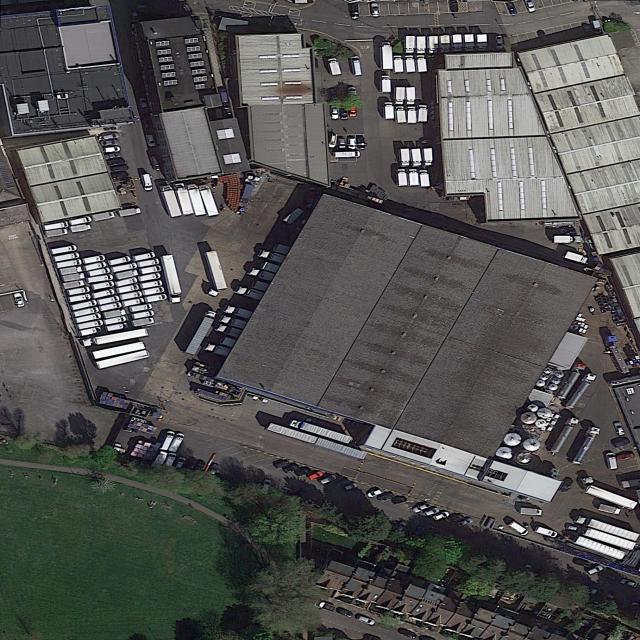large-vehicle: (572, 473, 639, 512), (565, 522, 637, 551), (563, 532, 628, 561), (573, 514, 640, 542), (288, 418, 355, 445), (182, 309, 219, 356), (79, 327, 150, 349), (563, 372, 599, 411), (553, 361, 588, 401), (570, 425, 602, 466), (548, 416, 581, 455), (213, 323, 268, 346), (217, 315, 273, 337), (160, 255, 184, 304), (603, 334, 631, 375), (233, 285, 284, 306), (221, 305, 274, 325), (201, 342, 251, 363), (256, 249, 308, 269), (158, 184, 184, 220), (196, 183, 221, 218), (246, 267, 292, 286), (184, 182, 207, 218), (172, 182, 195, 217), (281, 207, 306, 225), (379, 41, 394, 70), (563, 250, 590, 265), (149, 450, 169, 470), (168, 432, 186, 454), (49, 243, 79, 256), (159, 430, 177, 451), (110, 261, 139, 274), (239, 183, 256, 205), (70, 306, 101, 318), (75, 319, 105, 331), (51, 251, 81, 263), (78, 325, 105, 338), (80, 253, 107, 266), (53, 258, 82, 270), (507, 521, 530, 536), (596, 502, 622, 515), (70, 299, 98, 311), (75, 312, 103, 324), (83, 260, 108, 273), (107, 255, 132, 268), (326, 57, 343, 76), (90, 288, 116, 300), (90, 280, 116, 292), (114, 269, 140, 281), (349, 55, 363, 77), (102, 308, 127, 320), (98, 300, 123, 312), (144, 292, 169, 304), (96, 294, 121, 306), (66, 285, 91, 297), (114, 276, 139, 288), (85, 274, 115, 284), (552, 235, 582, 245), (535, 526, 558, 539), (86, 267, 113, 278), (163, 452, 180, 469), (130, 309, 156, 320), (136, 272, 162, 283), (102, 315, 128, 326), (58, 265, 84, 276), (91, 211, 117, 222), (142, 285, 167, 296), (128, 303, 153, 314), (121, 297, 146, 308), (118, 290, 143, 301), (67, 293, 92, 304), (115, 283, 140, 294), (138, 264, 163, 275), (105, 322, 130, 333), (132, 317, 157, 328), (61, 272, 86, 283), (136, 257, 161, 268), (132, 251, 157, 262), (44, 228, 69, 239), (403, 54, 417, 73), (450, 34, 464, 53), (139, 279, 163, 290), (398, 147, 411, 167), (422, 147, 435, 167), (463, 33, 476, 53), (439, 34, 452, 54), (410, 148, 423, 168), (63, 279, 86, 290), (475, 34, 489, 52), (519, 507, 544, 517), (118, 207, 143, 217), (395, 106, 408, 125), (394, 86, 406, 106), (415, 35, 427, 55), (380, 75, 393, 93), (416, 55, 429, 73), (427, 36, 440, 54), (396, 168, 409, 186), (332, 150, 361, 158), (69, 223, 92, 233), (383, 101, 395, 120), (605, 453, 618, 470), (408, 168, 420, 186), (420, 169, 432, 187), (141, 173, 153, 191), (407, 106, 418, 125), (405, 86, 416, 105), (393, 54, 404, 73), (418, 104, 429, 122), (404, 36, 415, 54)
small-vehicle: (194, 250, 230, 299), (396, 627, 418, 639), (355, 614, 377, 626), (558, 478, 574, 494), (315, 600, 336, 612), (335, 606, 356, 618), (445, 513, 466, 525), (412, 502, 433, 513), (376, 492, 396, 503), (585, 565, 605, 576), (184, 457, 199, 471), (282, 463, 301, 474), (455, 517, 474, 528), (259, 478, 272, 494), (348, 3, 360, 20), (598, 571, 618, 581), (613, 438, 631, 449), (320, 474, 338, 485), (412, 525, 426, 539), (590, 20, 604, 34), (207, 463, 222, 476), (192, 460, 207, 473), (150, 155, 163, 170), (13, 293, 26, 308), (294, 467, 313, 477), (573, 558, 592, 568), (307, 470, 324, 481), (433, 510, 450, 521), (506, 2, 519, 16), (536, 30, 549, 44), (144, 134, 157, 148), (613, 422, 626, 436), (391, 496, 409, 506), (620, 578, 638, 588), (327, 133, 339, 148), (110, 171, 130, 180), (424, 507, 442, 517), (217, 88, 229, 103), (101, 132, 120, 141), (334, 479, 351, 489), (366, 489, 383, 499), (106, 158, 126, 166), (395, 521, 409, 532), (175, 456, 186, 470), (274, 460, 291, 469), (616, 453, 635, 461), (370, 3, 380, 18), (111, 165, 129, 173), (329, 88, 339, 102), (339, 106, 349, 120), (104, 152, 121, 160), (330, 105, 339, 120), (494, 35, 503, 50), (582, 24, 593, 36), (356, 136, 366, 149), (348, 105, 358, 118), (103, 146, 121, 153), (343, 483, 358, 491), (310, 57, 319, 70), (449, 1, 459, 12), (101, 140, 119, 146), (348, 87, 357, 99), (338, 137, 347, 148), (223, 105, 232, 116), (139, 97, 148, 108), (348, 137, 356, 149)
storage-tank: (495, 446, 514, 462), (503, 432, 522, 447), (514, 452, 534, 466), (519, 411, 538, 425), (523, 437, 542, 451), (538, 407, 553, 419), (527, 403, 540, 413), (535, 420, 547, 428), (554, 370, 564, 378), (536, 380, 546, 387), (548, 384, 558, 391), (551, 377, 561, 384), (540, 373, 549, 380), (544, 367, 552, 374)
